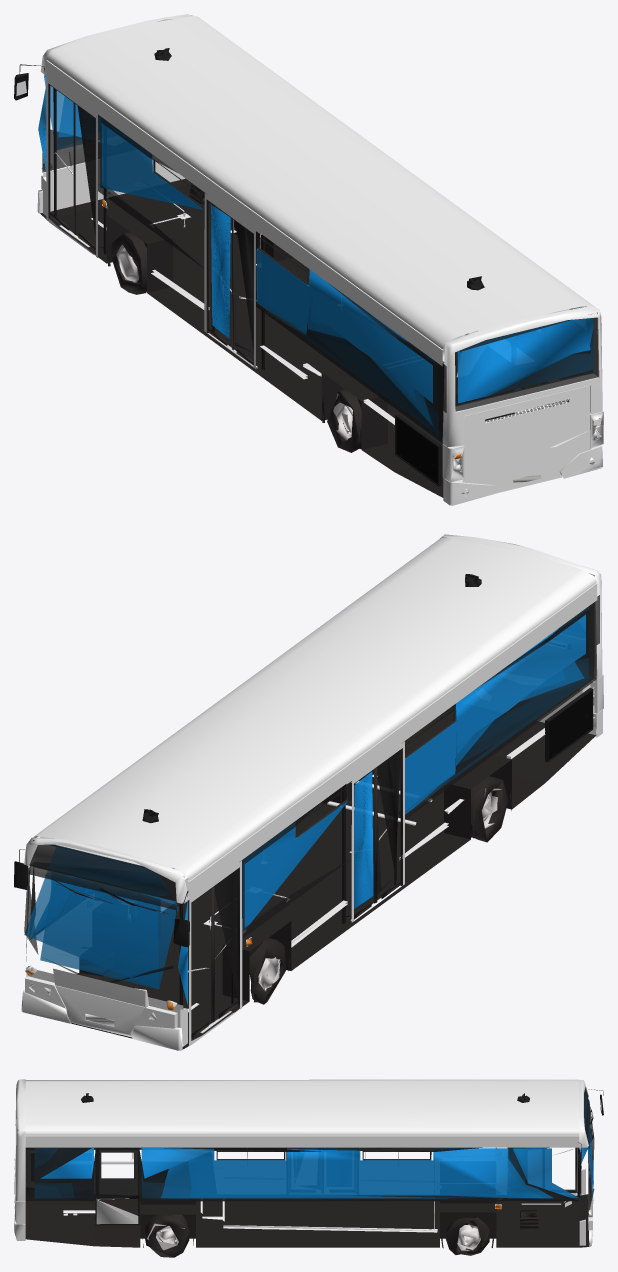
3 renders of one model, top to bottom at view 1: azimuth 30°, elevation 25°; view 2: azimuth 150°, elevation 25°; view 3: azimuth 270°, elevation 25°, orthographic. The views are drawn at different scales.
Parts seen in each view (by area): view 1: body, glass, wheel_RL, wheel_FL; view 2: body, glass, wheel_FL, wheel_RL; view 3: body, glass, wheel_FR, wheel_RR.
Boxes of the visible parts, <box> form: body: <box>14,14,603,505</box>; glass: <box>38,75,598,442</box>; wheel_RL: <box>111,232,146,294</box>; wheel_FL: <box>327,389,361,452</box>; body: <box>14,534,603,1050</box>; glass: <box>24,595,599,1005</box>; wheel_FL: <box>471,776,508,842</box>; wheel_RL: <box>249,938,286,1004</box>; body: <box>14,1079,603,1248</box>; glass: <box>17,1087,594,1225</box>; wheel_FR: <box>145,1214,189,1257</box>; wheel_RR: <box>445,1217,489,1255</box>.
Bounding box in the file's own units: 2.92 × 3.14 × 11.44.
